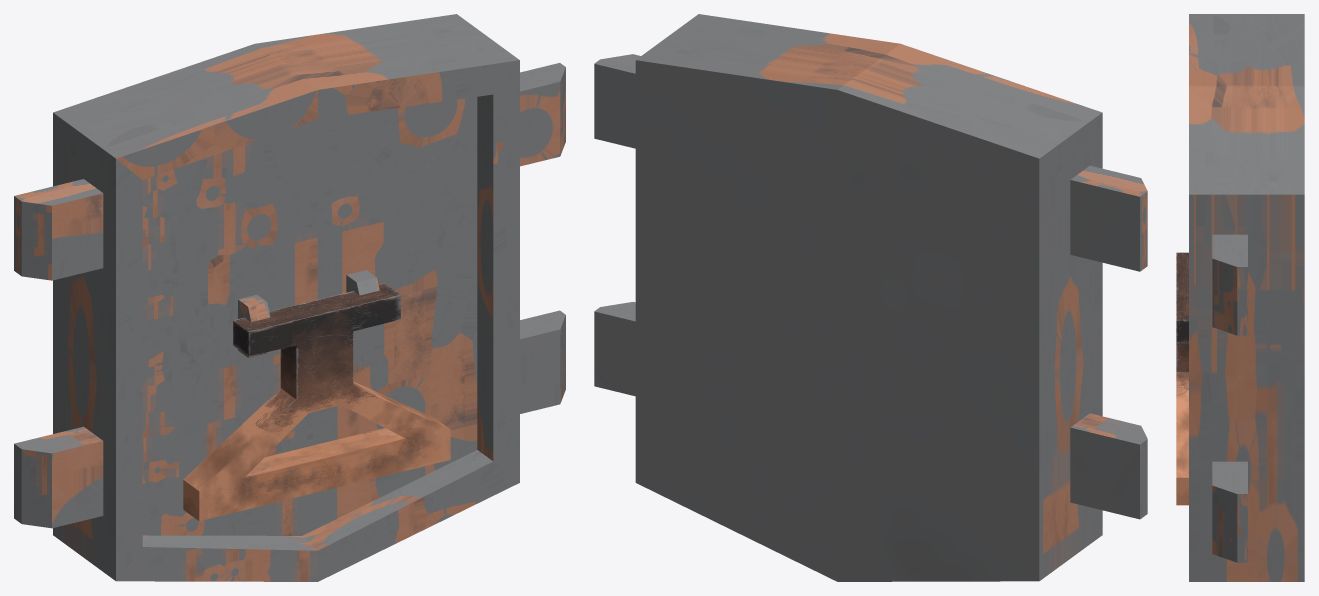
File: LE_Lever_intro.fbx
3 renders of one model, left to right at view 1: azimuth 30°, elevation 25°; view 2: azimuth 150°, elevation 25°; view 3: azimuth 270°, elevation 25°, orthographic. The views are drawn at different scales.
Parts seen in each view (by area): view 1: Cube.007, Cube.002; view 2: Cube.007; view 3: Cube.007, Cube.002.
Boxes of the visible parts, x1=… form: Cube.007: x1=14, y1=14, x2=565, y2=581; Cube.002: x1=183, y1=283, x2=450, y2=521; Cube.007: x1=594, y1=14, x2=1147, y2=581; Cube.007: x1=1189, y1=14, x2=1304, y2=581; Cube.002: x1=1176, y1=252, x2=1188, y2=505.
Bounding box in the file's own units: 138 × 119 × 30.79.
